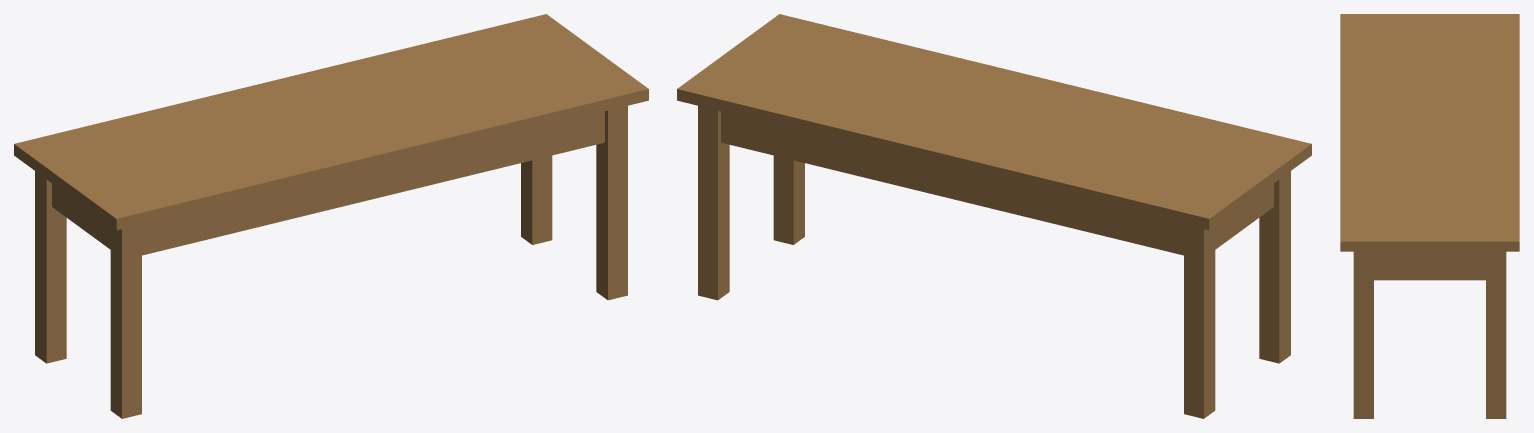
Rendered from HIN-BEN-std.glb.
3 renders of one model, left to right at view 1: azimuth 30°, elevation 25°; view 2: azimuth 150°, elevation 25°; view 3: azimuth 270°, elevation 25°, orthographic. The views are drawn at different scales.
Visible parts, largest first — view 1: top:pbr, apron-f:pbr, leg-fl:pbr, leg-fr:pbr, leg-bl:pbr, leg-br:pbr, apron-l:pbr; view 2: top:pbr, apron-b:pbr, leg-bl:pbr, leg-br:pbr, leg-fl:pbr, leg-fr:pbr, apron-l:pbr; view 3: top:pbr, leg-fr:pbr, leg-br:pbr, apron-r:pbr.
Part boxes in pixels (bbox=[...]): top:pbr: bbox=[14, 14, 648, 230]; apron-f:pbr: bbox=[142, 111, 604, 255]; leg-fl:pbr: bbox=[110, 224, 141, 418]; leg-fr:pbr: bbox=[596, 106, 627, 300]; leg-bl:pbr: bbox=[35, 171, 66, 363]; leg-br:pbr: bbox=[521, 155, 552, 244]; apron-l:pbr: bbox=[52, 183, 110, 249]; top:pbr: bbox=[677, 14, 1311, 230]; apron-b:pbr: bbox=[721, 111, 1183, 255]; leg-bl:pbr: bbox=[1184, 224, 1215, 418]; leg-br:pbr: bbox=[698, 106, 729, 300]; leg-fl:pbr: bbox=[1259, 171, 1290, 363]; leg-fr:pbr: bbox=[773, 155, 804, 244]; apron-l:pbr: bbox=[1215, 183, 1273, 249]; top:pbr: bbox=[1340, 14, 1519, 251]; leg-fr:pbr: bbox=[1353, 251, 1373, 418]; leg-br:pbr: bbox=[1486, 251, 1506, 418]; apron-r:pbr: bbox=[1374, 251, 1485, 280].
Size of the model in its own units: 1.2 by 0.45 by 0.4.
